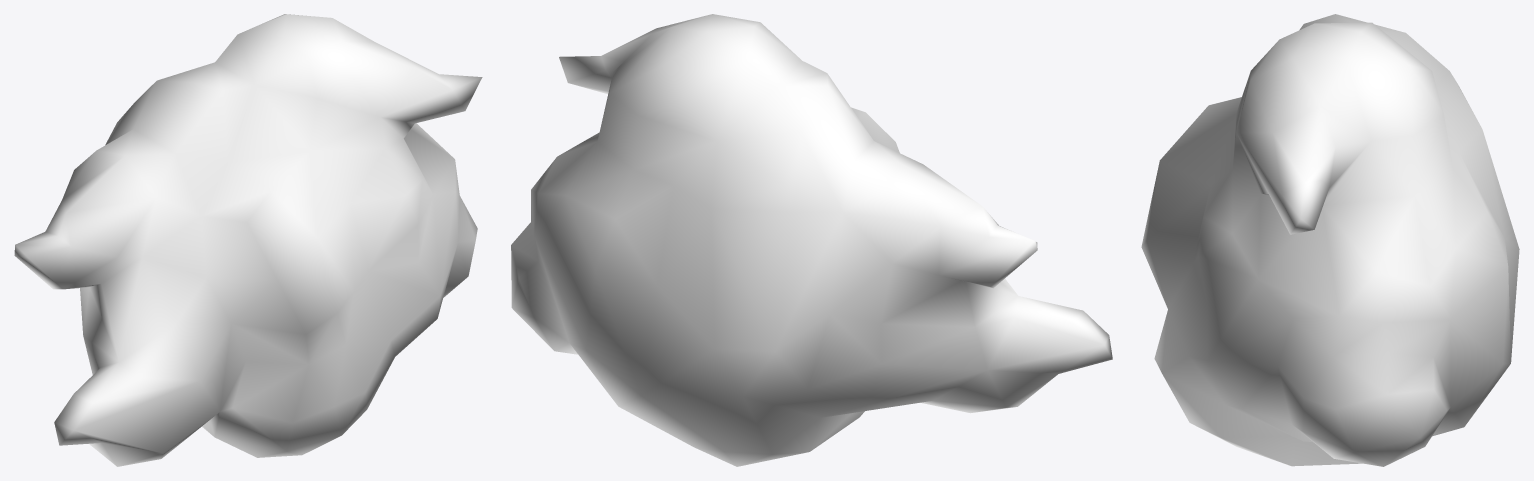
Rendered from Cloud6.fbx.
3 views of the same model, side by side, from view 1: azimuth 30°, elevation 25°; view 2: azimuth 150°, elevation 25°; view 3: azimuth 270°, elevation 25° (orthographic). The views are drawn at different scales.
Parts seen in each view (by area): view 1: Cloud6; view 2: Cloud6; view 3: Cloud6.
Part boxes in pixels (x1,y1,x2,y2): Cloud6: [14, 14, 482, 466]; Cloud6: [511, 14, 1112, 466]; Cloud6: [1141, 14, 1519, 466].
Size of the model in its own units: 309 by 244 by 186.
Materials: 1 (1 with a texture image).
